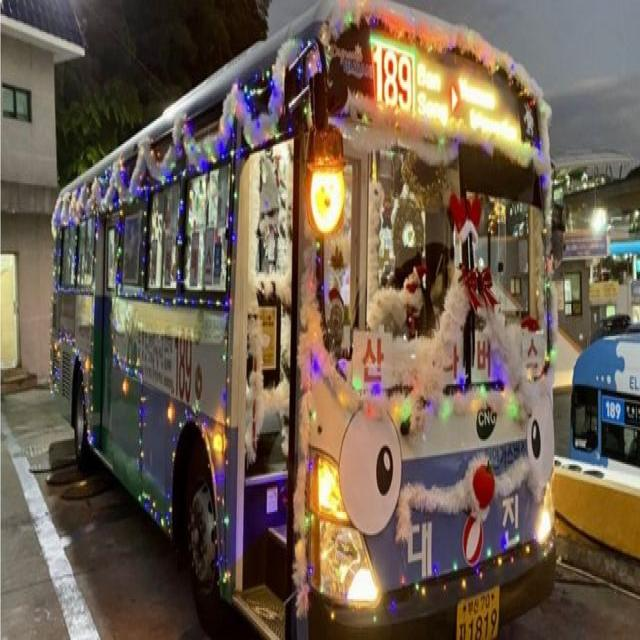bus-number: (372, 42, 412, 117)
